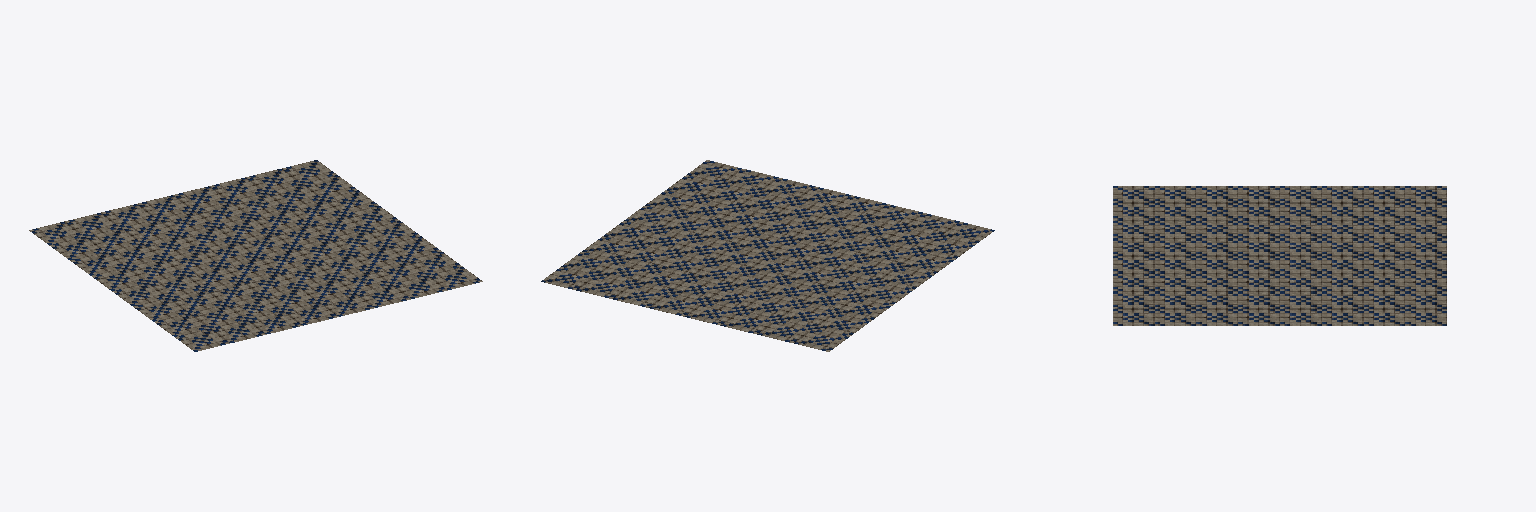
3 views of the same model, side by side, from view 1: azimuth 30°, elevation 25°; view 2: azimuth 150°, elevation 25°; view 3: azimuth 270°, elevation 25° (orthographic).
Visible parts, largest first — view 1: Plane; view 2: Plane; view 3: Plane.
Part boxes in pixels (x1,y1,x2,y2): Plane: (29,160,482,351); Plane: (541,160,994,351); Plane: (1113,186,1446,325).
Bounding box in the file's own units: 20 × 0 × 20.
1 materials, 1 textured.